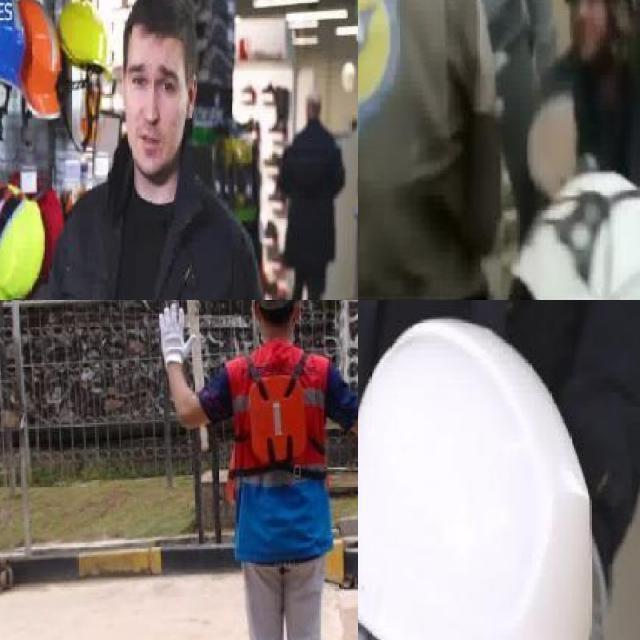apron: (154, 302, 194, 368)
